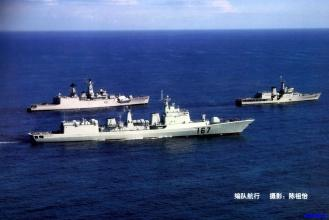warship: (27, 101, 261, 145), (26, 77, 161, 116), (234, 79, 323, 106)
